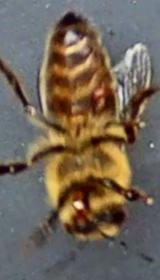varroa_mite: (80, 78, 128, 119)
